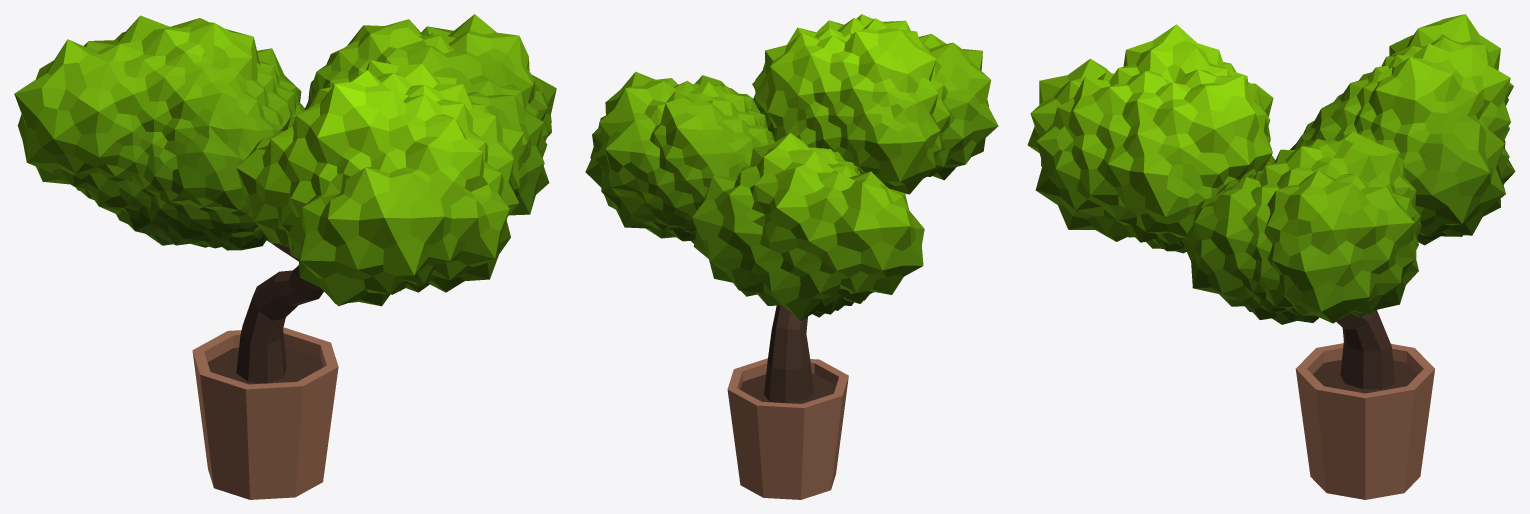
Rendered from Bonzai.glb.
The picture shows the model from 3 angles, left to right: view 1: azimuth 30°, elevation 25°; view 2: azimuth 150°, elevation 25°; view 3: azimuth 270°, elevation 25°; orthographic projection. The views are drawn at different scales.
Visible parts, largest first — view 1: Bonzai; view 2: Bonzai; view 3: Bonzai.
Part boxes in pixels (x1,y1,x2,y2): Bonzai: (14,14,556,499); Bonzai: (585,14,998,499); Bonzai: (1027,14,1515,499).
Bounding box in the file's own units: 1.24 × 1.22 × 1.23.
Materials: 1 (1 with a texture image).
